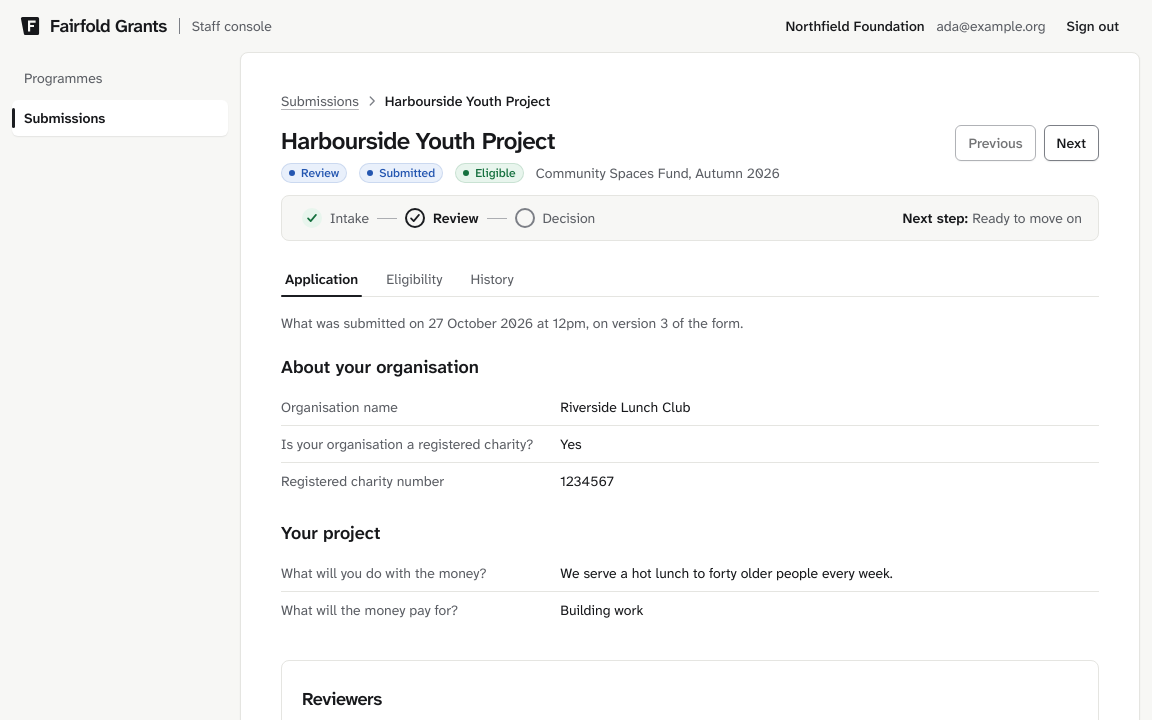
Scenario: moving through the list › moves to the next submission and shows it
Click the link "Next".
click(1071, 143)  # box [1044,125,1099,161]
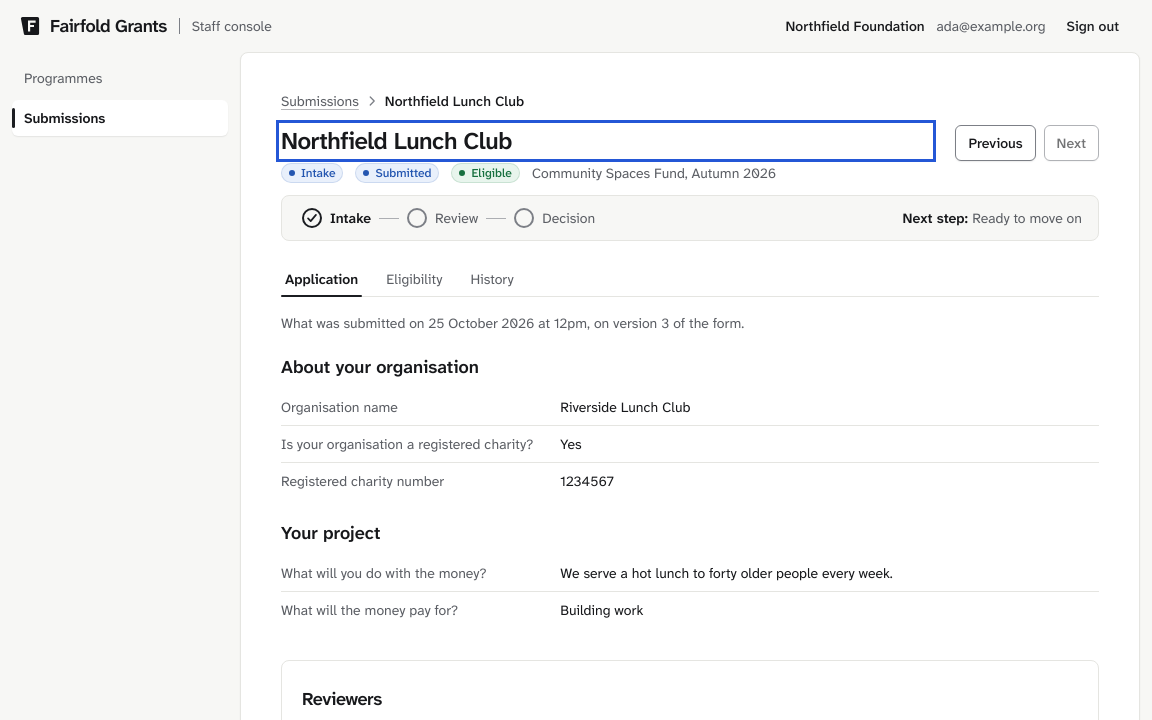
Check: the heading "Northfield Lunch Club" is shown, box [281,125,512,157]
